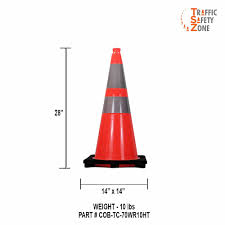cones: (84, 47, 148, 168)
